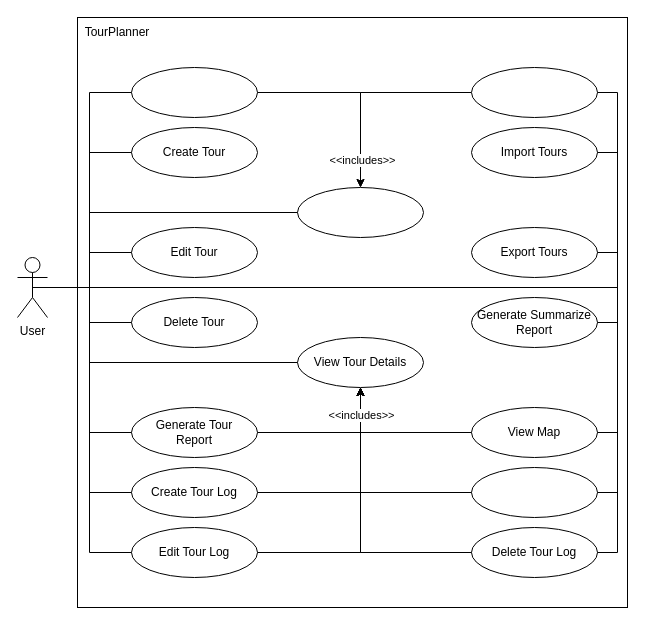
This 645x625 diagram has some shape labels left out. Each missing label, with the centre of its shape:
"Mark/Unmark Favorite" goes at (534,92).
"Search Tours" goes at (194,92).
"View computed attributes" goes at (534,492).
"View Tours" goes at (360,212).
